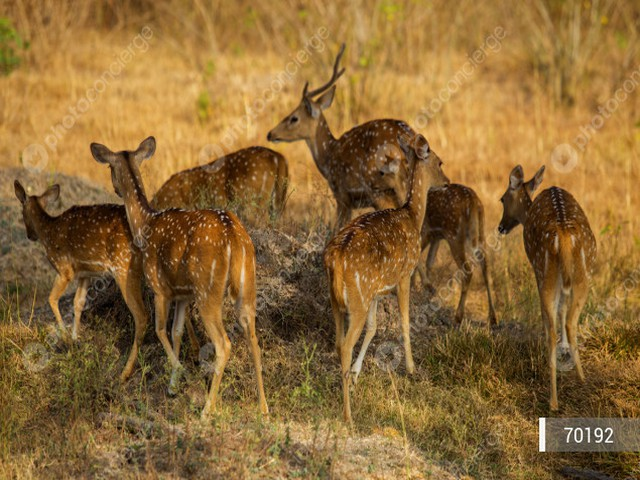deer: (79, 129, 279, 422), (321, 143, 451, 422), (491, 161, 604, 409), (11, 174, 136, 373), (270, 60, 457, 141)
